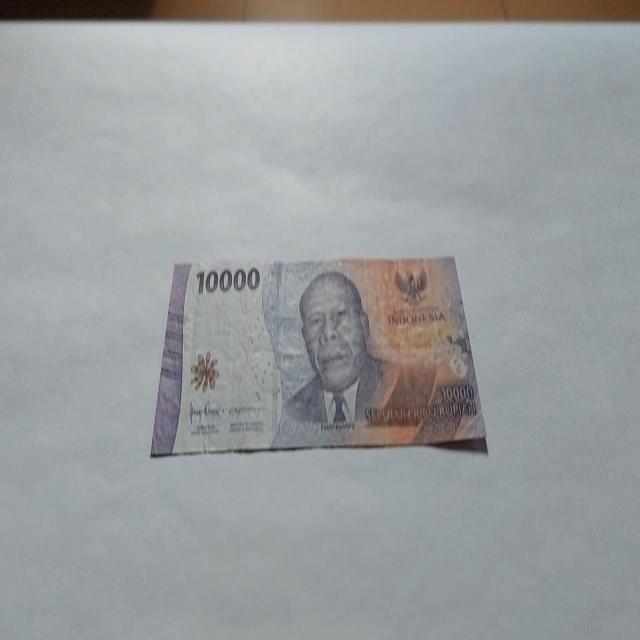sepuluh ribu rupiah: (150, 254, 488, 458)
